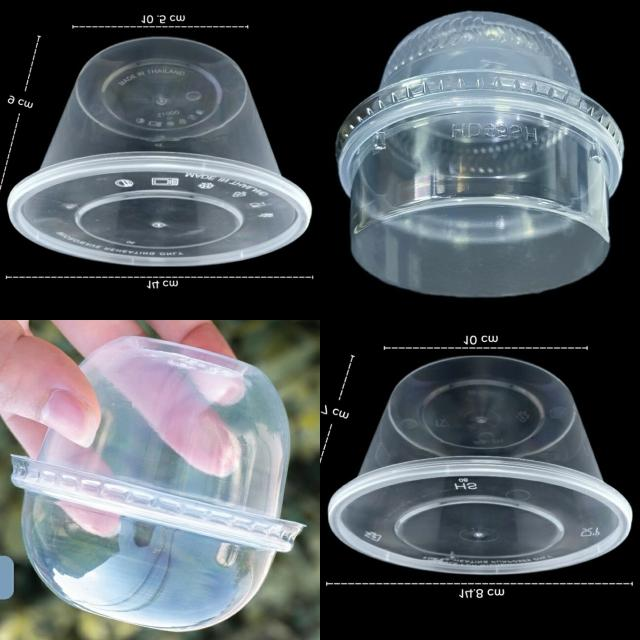Single-Use-Plastic: (11, 336, 302, 631), (336, 12, 622, 298), (8, 38, 311, 266), (329, 356, 631, 574)
